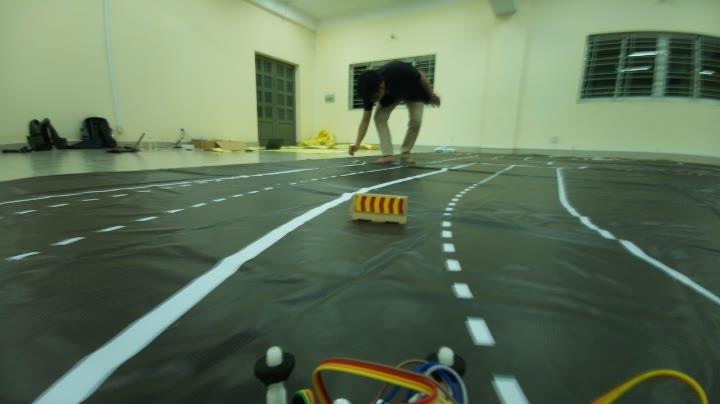roadblock: (344, 188, 414, 224)
